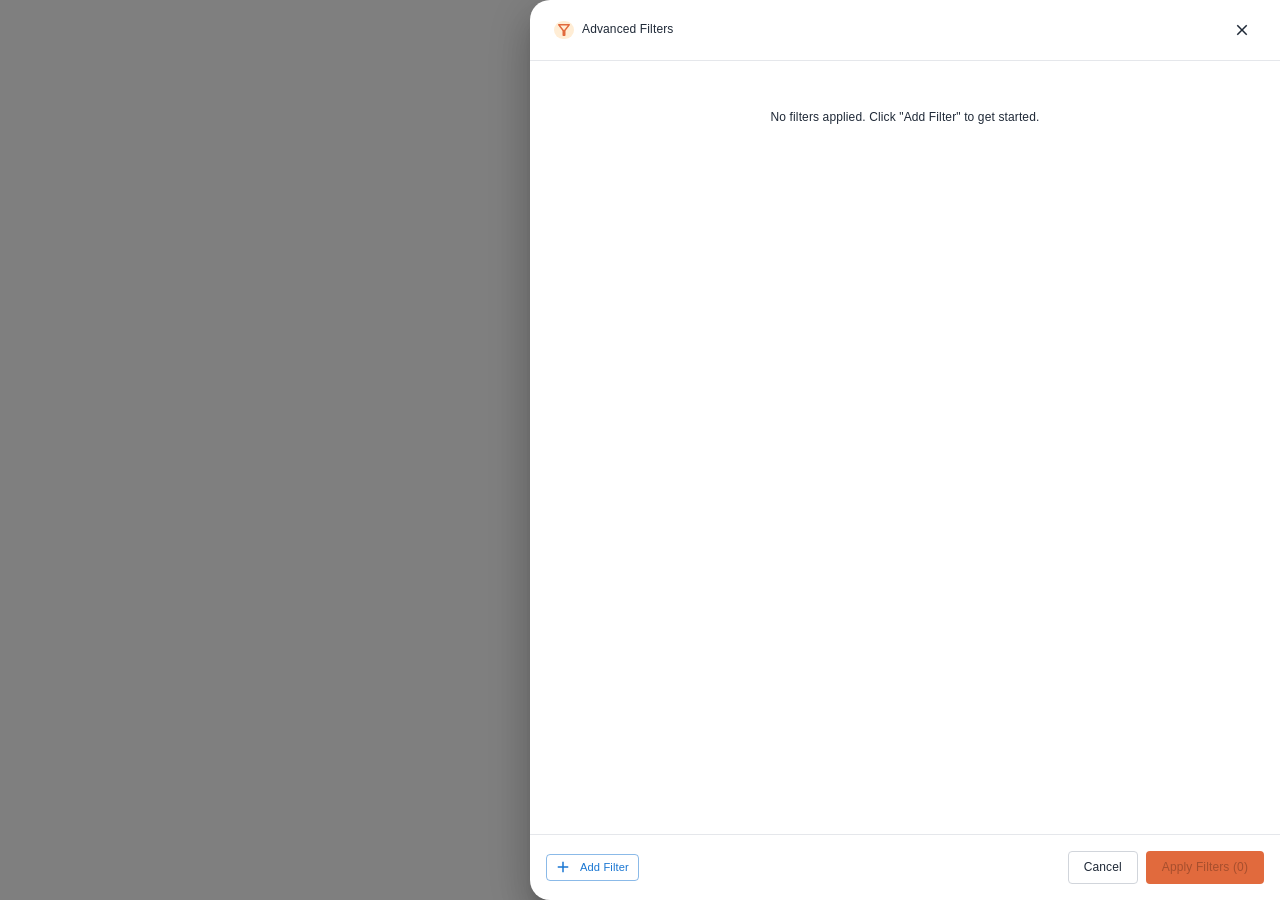
Test: FilterPopup — interactions › adds a rule row when Add Filter is clicked
The image size is (1280, 900).
What coordinates should you click on to do the following:
click the button "Add Filter"
I would click on:
 (592, 868)
Its box is [546,854,639,881].
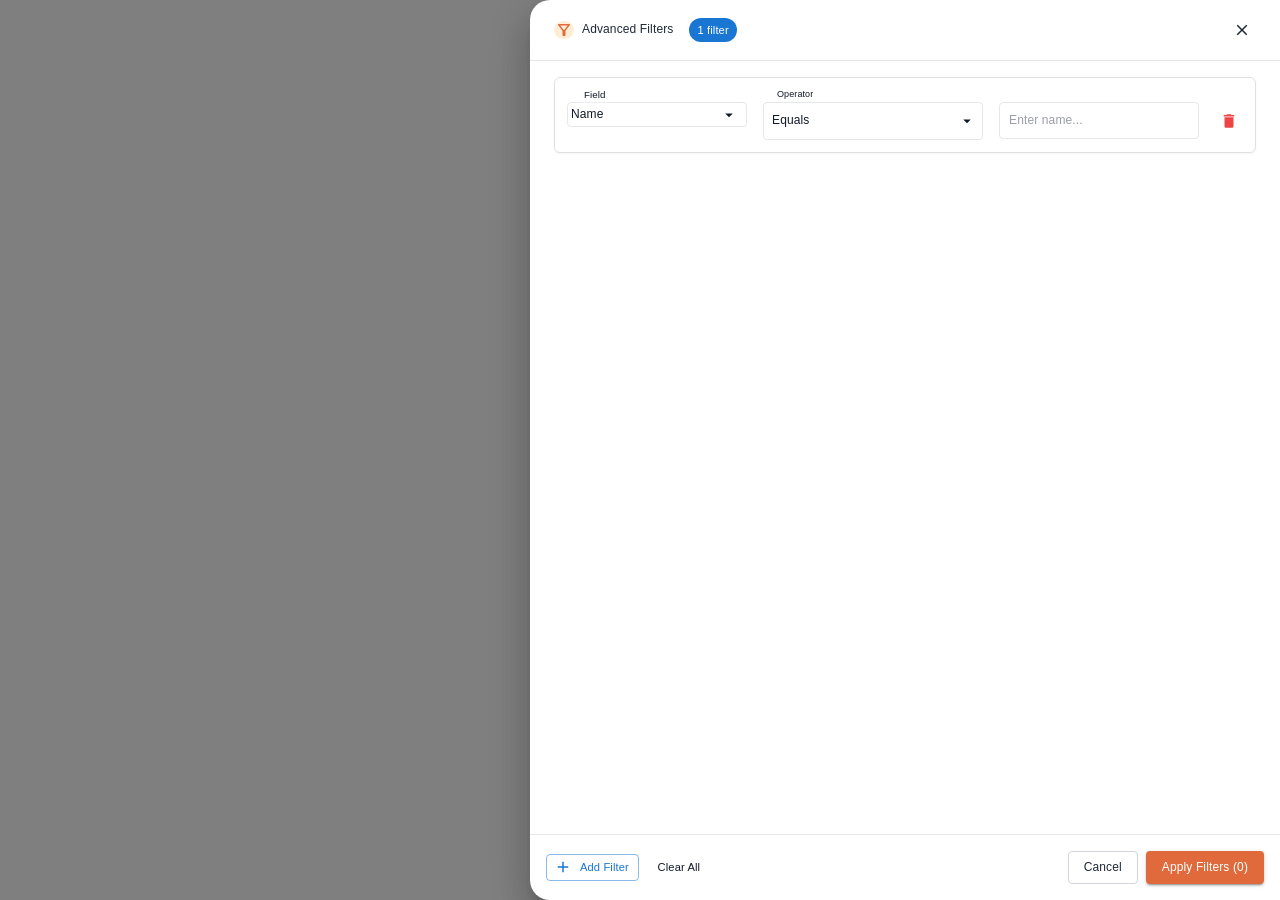
Check: the icon with test id "DeleteIcon" is shown, box [1220,112,1238,130]
